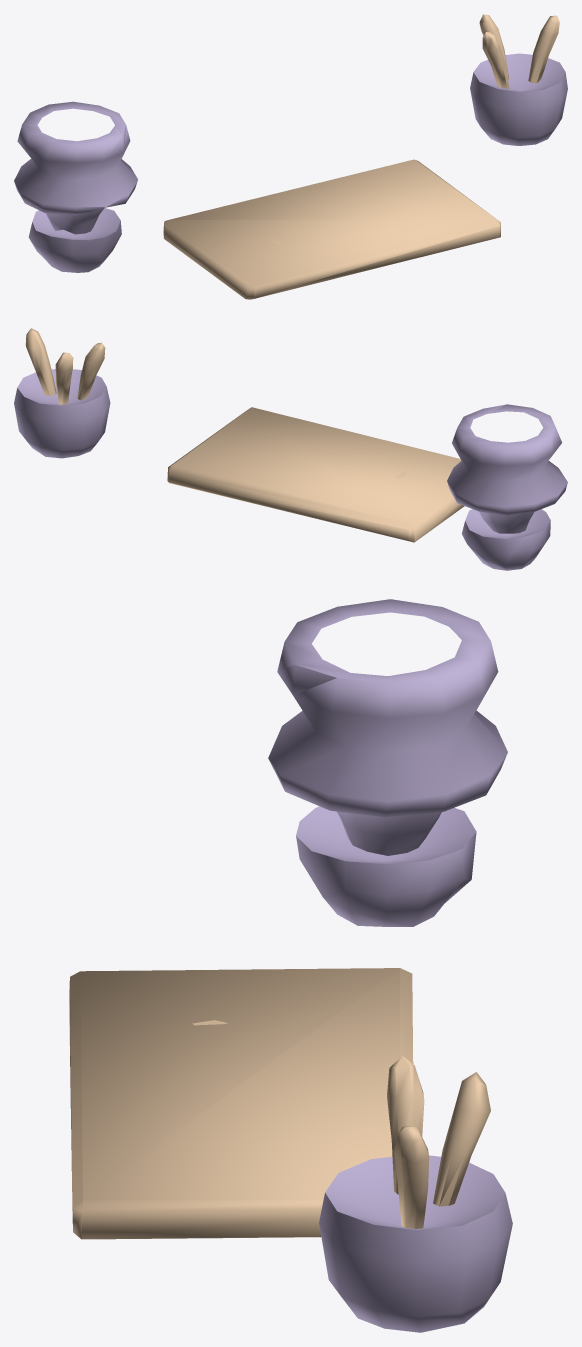
The model's file is bedroom_stationery.glb.
3 renders of one model, top to bottom at view 1: azimuth 30°, elevation 25°; view 2: azimuth 150°, elevation 25°; view 3: azimuth 270°, elevation 25°, orthographic. The views are drawn at different scales.
Size of the model in its own units: 0.58 by 0.1419 by 0.2099.
